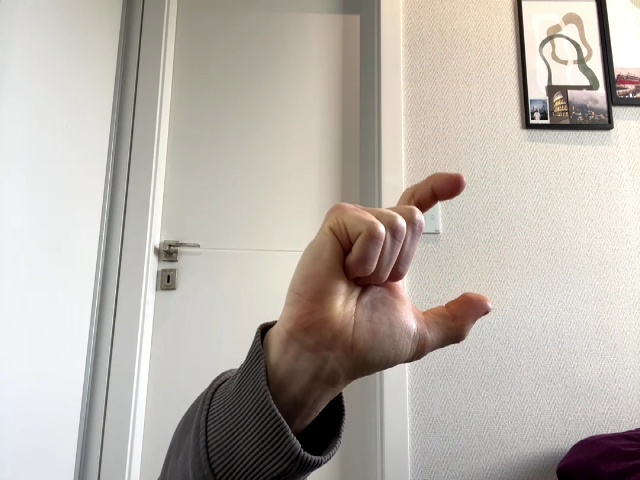C: (280, 173, 491, 383)
